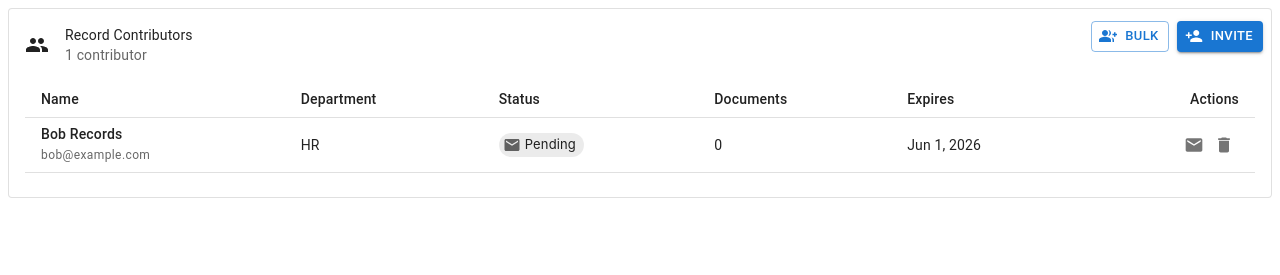
Test: ContributorsPanel › deletes a contributor after window.confirm
This screenshot has width=1280, height=275.
expect the text "Bob Records" is shown: met, box x1=41 y1=126 x2=122 y2=142
What coordinates should you click on to do the following:
click the button with test id "DeleteIcon"
I would click on:
 (1224, 145)
Its box is x1=1209 y1=130 x2=1239 y2=160.
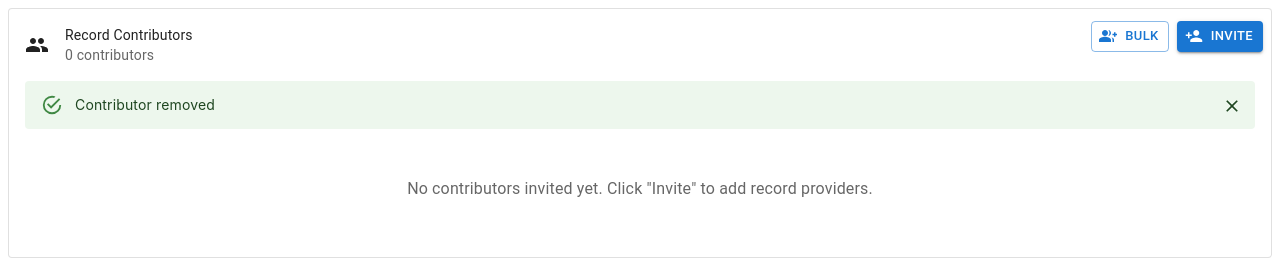
expect the text "No contributors invited yet" is shown: met, box x1=407 y1=179 x2=873 y2=198
